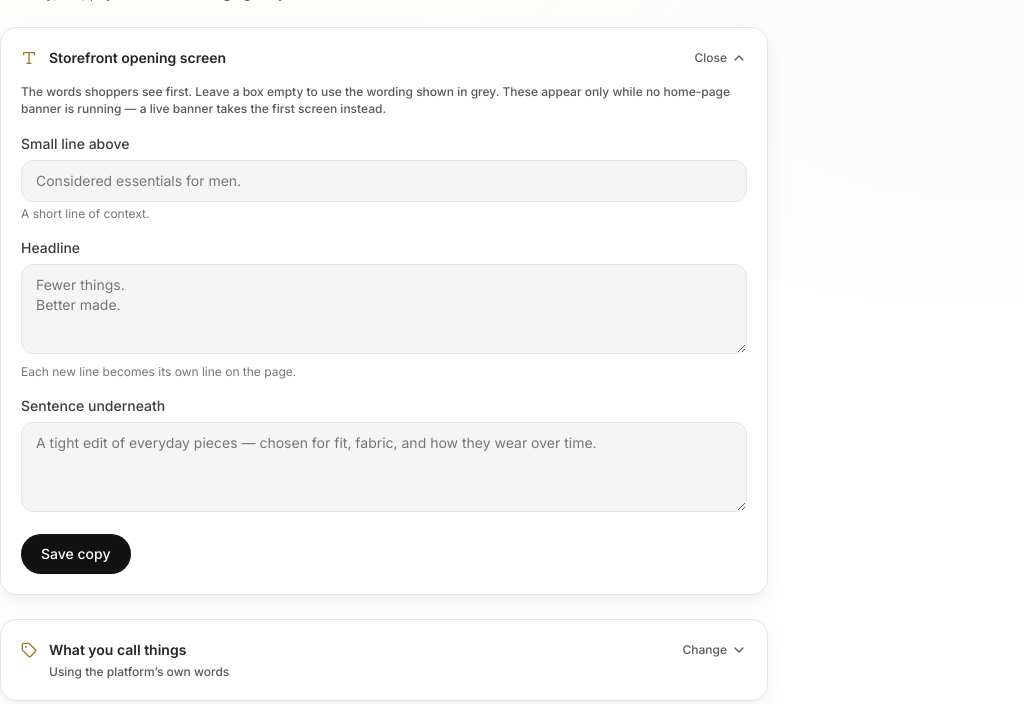
Test: the wording form › opens the console group to the real nav terms
What coordinates should you click on to do the following:
click the text "What you call things"
I would click on:
 (118, 650)
Its box is [49,640,186,660].
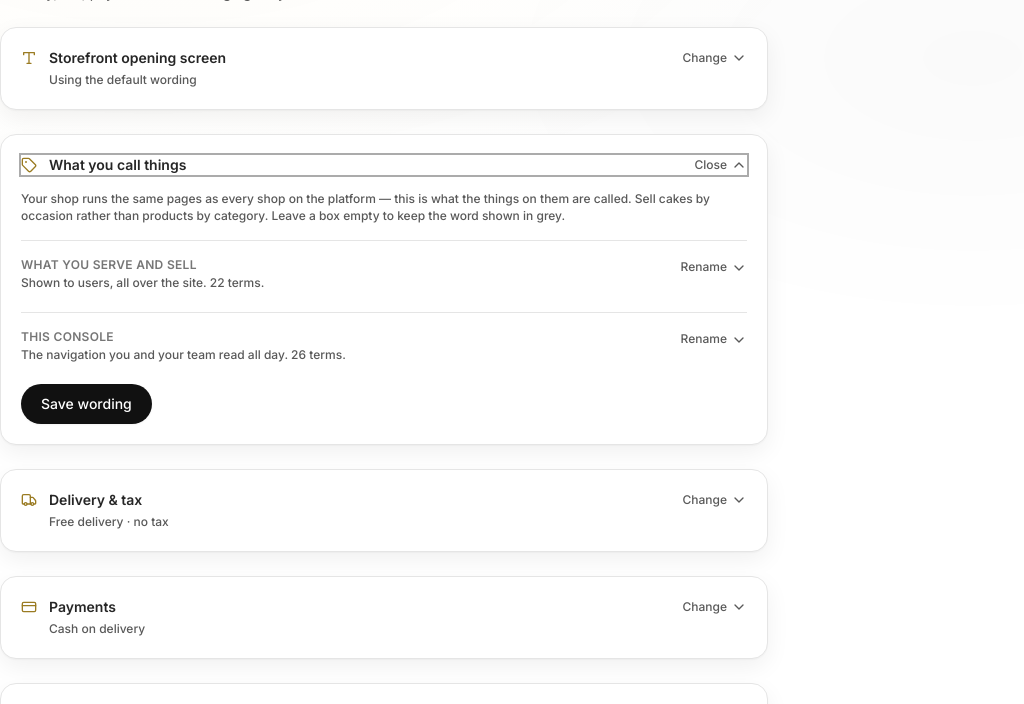
What coordinates should you click on to do the following:
click the button "This console"
I would click on:
 (67, 337)
Its box is [21,329,747,364].
(page scrolled)
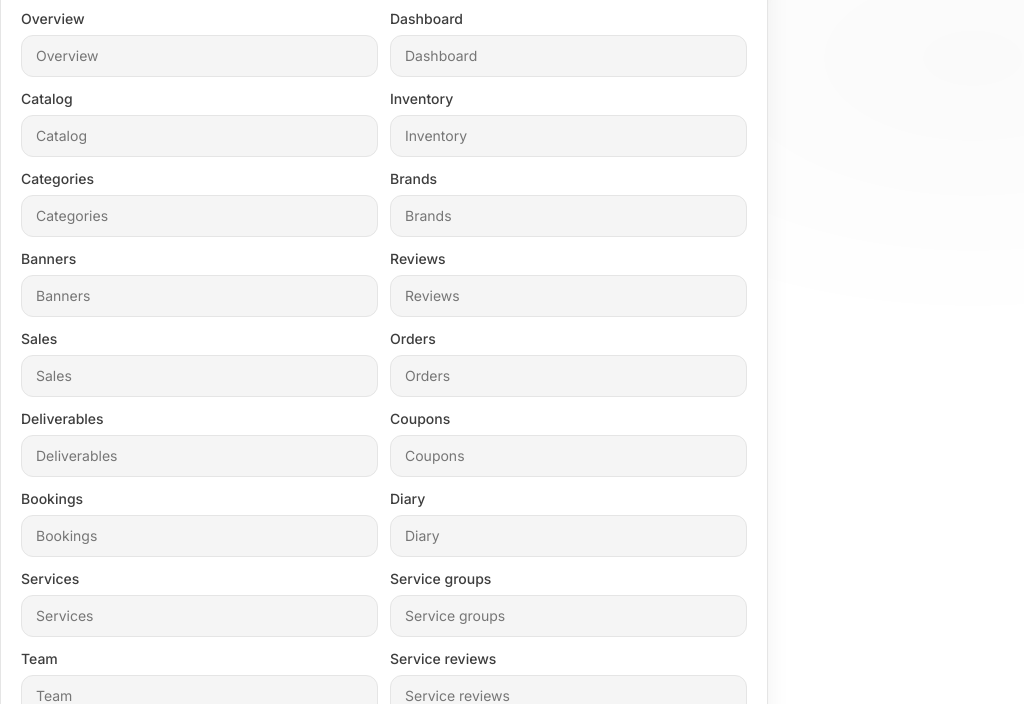
Expected: the field named "Your word for Inventory in the console" is shown, [390,115,747,157]
